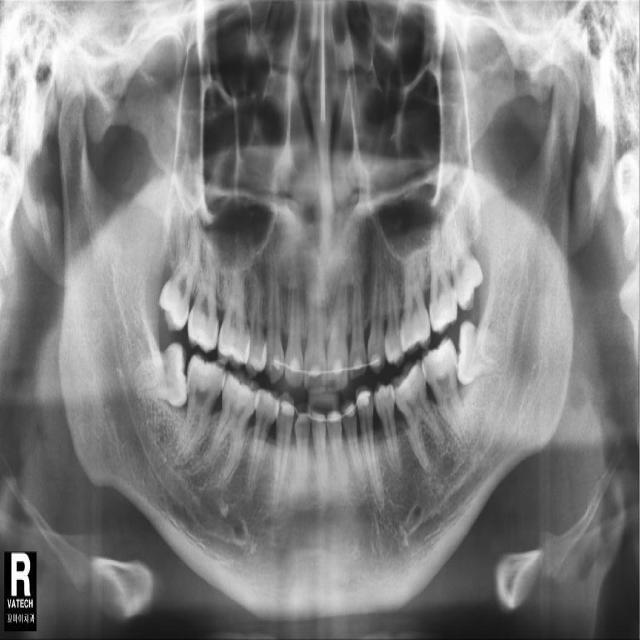3M ESPE Implant: (154, 213, 206, 334)
73: (604, 578, 612, 606)
BioHorizons Implant: (428, 218, 459, 335)
BioLife Implant: (438, 192, 488, 313)
Biomet 3i Implant: (455, 320, 501, 385)
Blue Sky Bio Implant: (417, 334, 472, 449)
Caries: (185, 239, 226, 354)
Implant: (167, 349, 231, 465)
Keystone Dental Implant: (128, 341, 192, 411)
